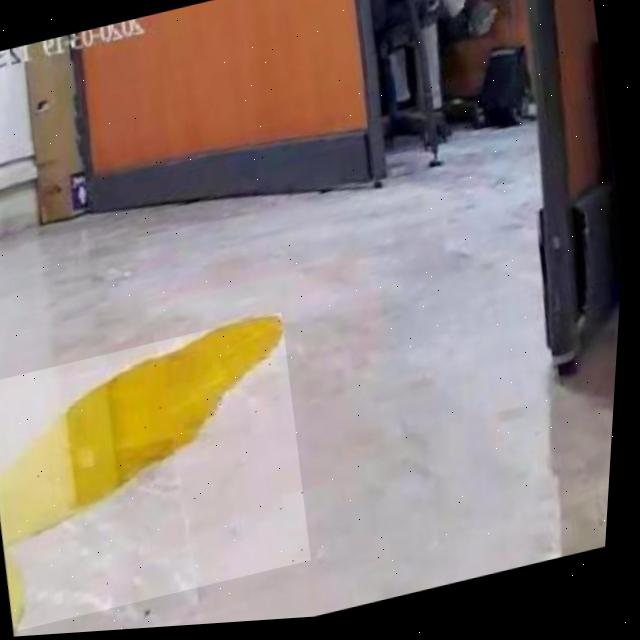spillage: (5, 319, 287, 630)
